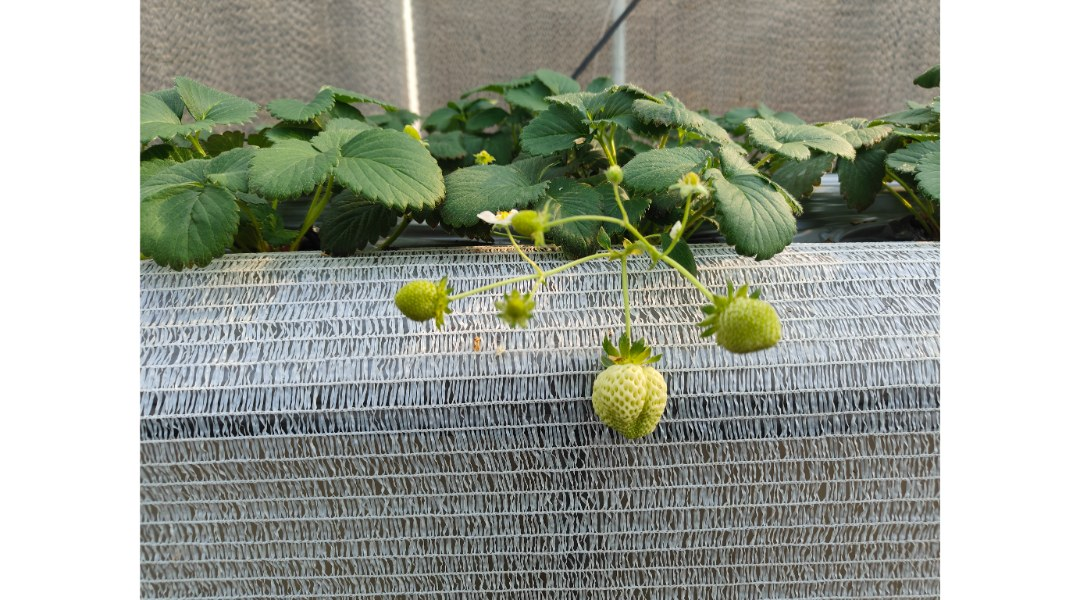berry: (576, 332, 685, 454), (698, 281, 798, 364), (385, 274, 450, 340), (491, 286, 540, 342), (664, 173, 718, 199), (598, 156, 633, 190)
flower: (471, 202, 527, 228)
strain: (435, 274, 535, 307), (673, 258, 718, 302), (550, 212, 622, 237), (665, 189, 693, 251), (551, 250, 617, 276), (506, 230, 540, 268)
